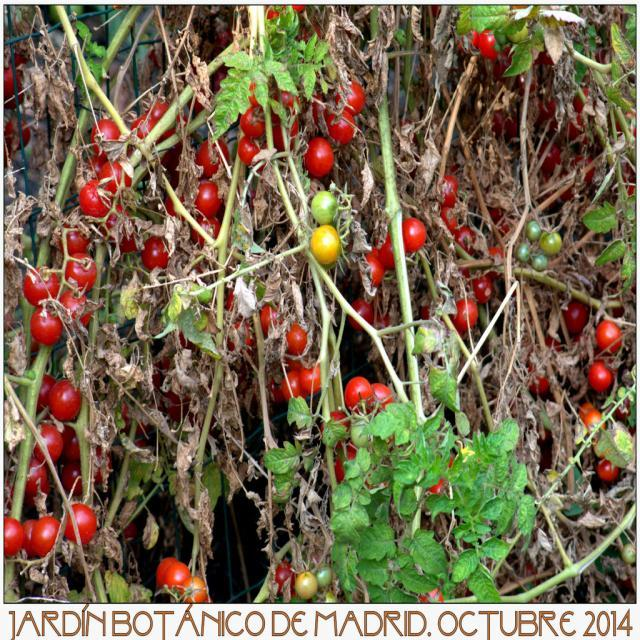Tomato: (238, 4, 366, 264), (325, 377, 455, 485), (440, 174, 508, 328), (261, 303, 321, 401), (361, 224, 427, 287), (576, 403, 622, 477), (528, 337, 561, 393), (24, 267, 62, 309), (48, 382, 80, 422), (67, 504, 95, 546), (29, 305, 61, 341), (66, 254, 96, 292), (62, 286, 88, 329), (35, 421, 63, 459), (141, 236, 170, 272), (79, 181, 111, 213), (90, 118, 122, 150), (197, 141, 227, 175), (192, 182, 220, 218), (101, 161, 131, 194), (62, 219, 90, 253), (597, 321, 626, 349), (28, 456, 48, 496), (479, 28, 503, 60), (157, 557, 179, 591), (163, 563, 191, 589), (35, 520, 57, 553), (563, 302, 587, 330), (180, 576, 206, 601), (5, 517, 21, 557), (460, 25, 482, 53), (591, 364, 615, 389), (21, 517, 38, 551), (84, 156, 110, 177), (38, 374, 54, 406), (66, 464, 84, 490), (69, 434, 84, 457)
